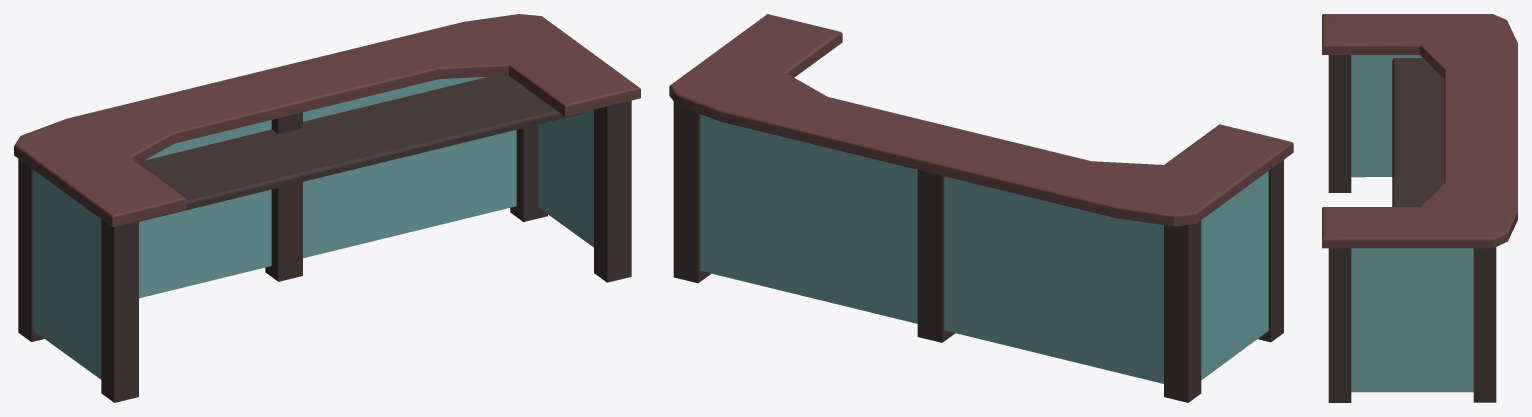
Rendered from Reception_Desk.fbx.
3 renders of one model, left to right at view 1: azimuth 30°, elevation 25°; view 2: azimuth 150°, elevation 25°; view 3: azimuth 270°, elevation 25°, orthographic. The views are drawn at different scales.
Visible parts, largest first — view 1: pCube2, pCube3, pCube11, pCube9, pCube6, pCube7, pCube8, pCube10, pCube5, pCube4; view 2: pCube3, pCube2, pCube9, pCube5, pCube4, pCube10, pCube6; view 3: pCube2, pCube8, pCube11, pCube9, pCube4, pCube7, pCube6.
Boxes of the visible parts, bbox=[...] form: pCube2: bbox=[14, 14, 640, 227]; pCube3: bbox=[139, 76, 516, 298]; pCube11: bbox=[139, 75, 585, 221]; pCube9: bbox=[33, 170, 101, 379]; pCube6: bbox=[101, 219, 138, 402]; pCube7: bbox=[594, 100, 631, 282]; pCube8: bbox=[538, 110, 593, 247]; pCube10: bbox=[265, 112, 302, 281]; pCube5: bbox=[18, 159, 44, 341]; pCube4: bbox=[510, 124, 547, 221]; pCube3: bbox=[700, 114, 1163, 383]; pCube2: bbox=[669, 14, 1293, 226]; pCube9: bbox=[1201, 171, 1268, 380]; pCube5: bbox=[1164, 220, 1201, 402]; pCube4: bbox=[673, 101, 710, 283]; pCube10: bbox=[917, 170, 955, 342]; pCube6: bbox=[1257, 160, 1283, 342]; pCube2: bbox=[1322, 14, 1517, 248]; pCube8: bbox=[1351, 248, 1473, 392]; pCube11: bbox=[1392, 58, 1444, 206]; pCube9: bbox=[1351, 55, 1422, 177]; pCube4: bbox=[1473, 247, 1496, 402]; pCube7: bbox=[1328, 248, 1351, 402]; pCube6: bbox=[1328, 55, 1351, 192].
Bounding box in the file's own units: 3.26 × 1.13 × 1.2.
